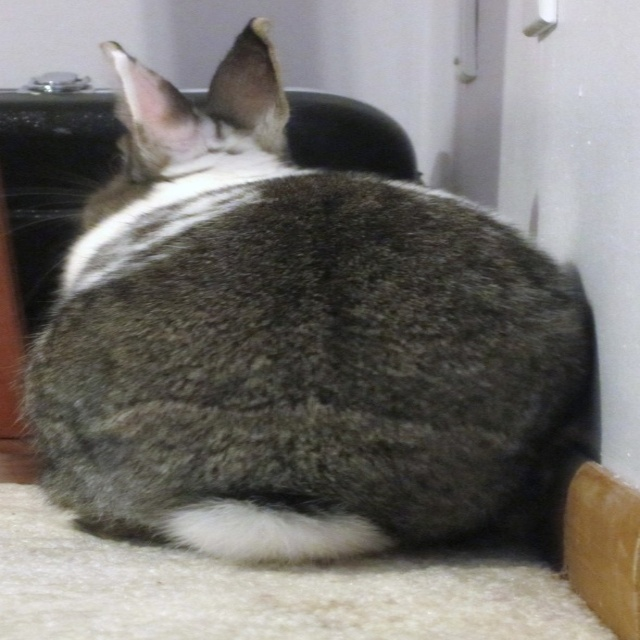Rabbit: (25, 16, 598, 574)
